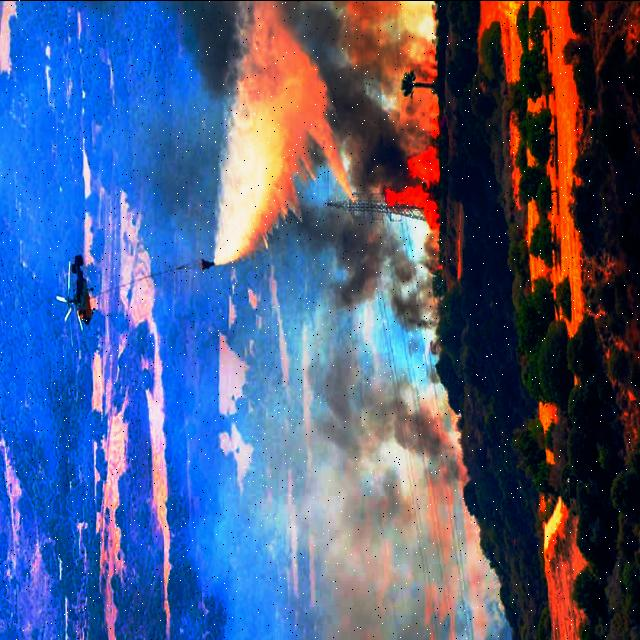api: (385, 151, 442, 227)
asap: (288, 381, 501, 635), (199, 1, 385, 269), (328, 274, 446, 344), (390, 40, 440, 75)
